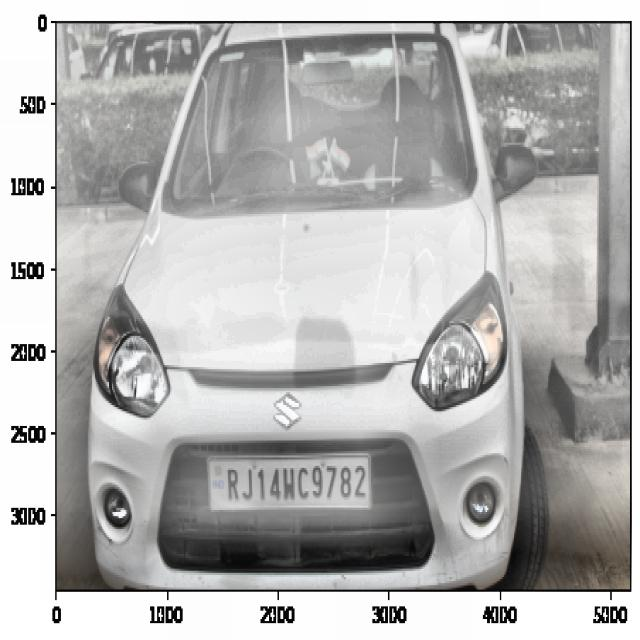license_plate: (220, 455, 371, 509)
